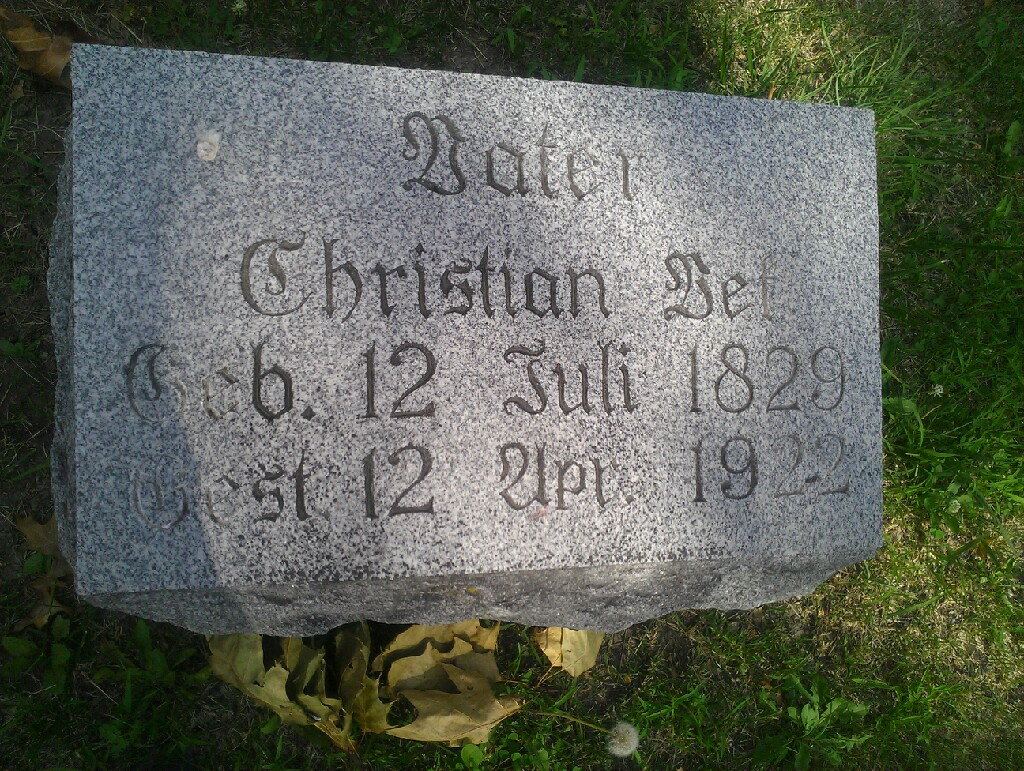flat: (59, 47, 895, 644)
